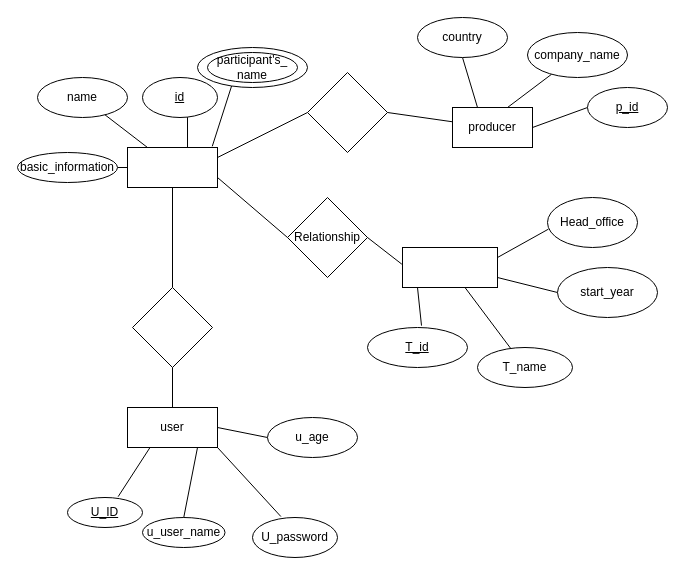
The diagram is 685 pixels wide and 575 high, and some of its shapes have lost their labels. The shapes that lost their labels are listed below. From the top down, each one's centre as x and y in pixels, then its label:
the point at 347,112: produced by
the point at 172,167: reality show
the point at 450,267: Tv_channel
the point at 172,327: Rated by
